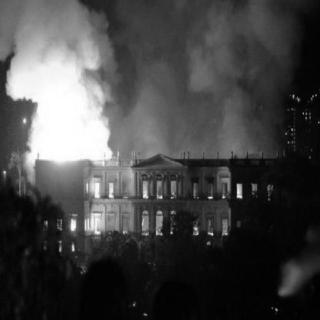Fire: (16, 58, 112, 164), (44, 215, 102, 257), (85, 179, 113, 199)
